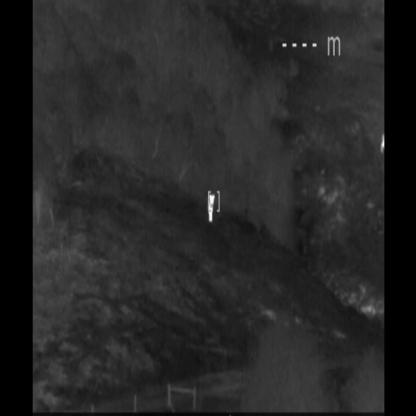rehkitze: (208, 193, 216, 226), (382, 135, 384, 159)
